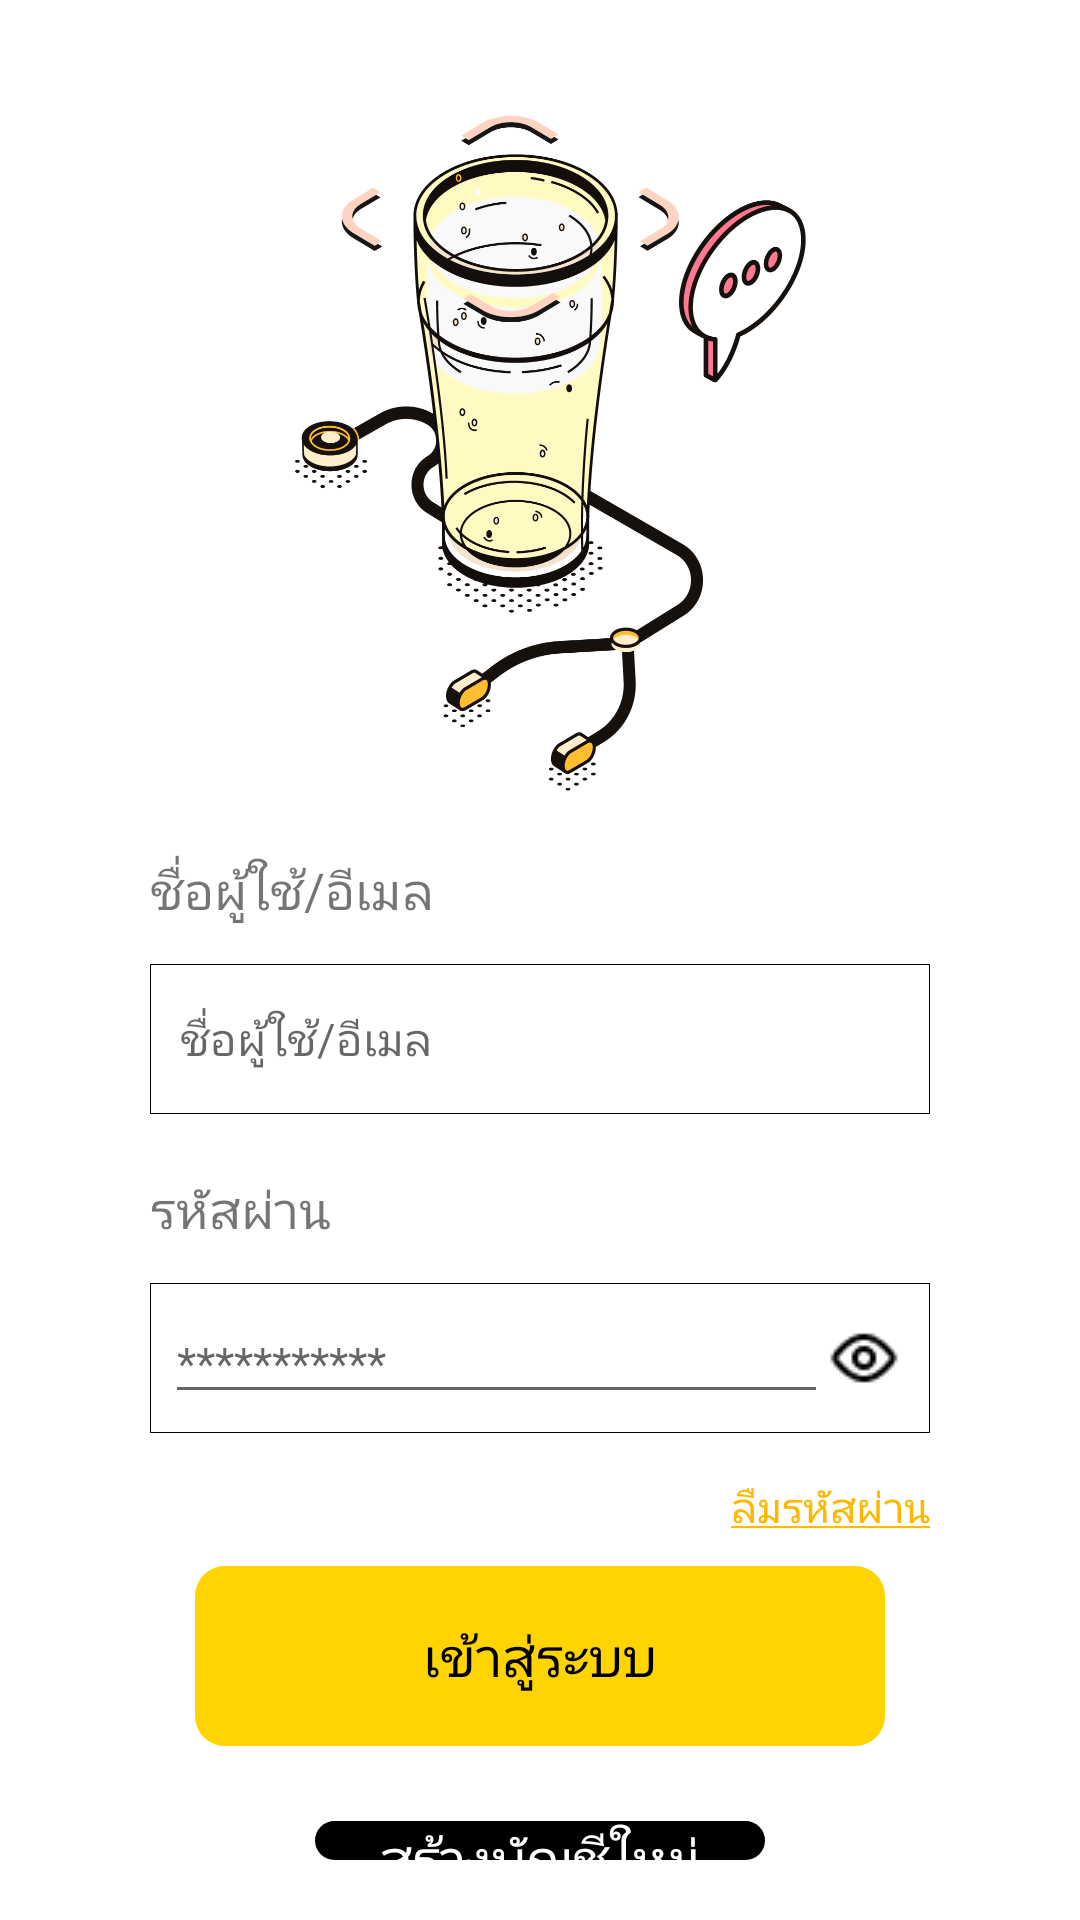

Where icons sit on this 1080x1920 app screen, as (x1, y1, x2, y2):
eye open: (830, 1333, 898, 1383)
